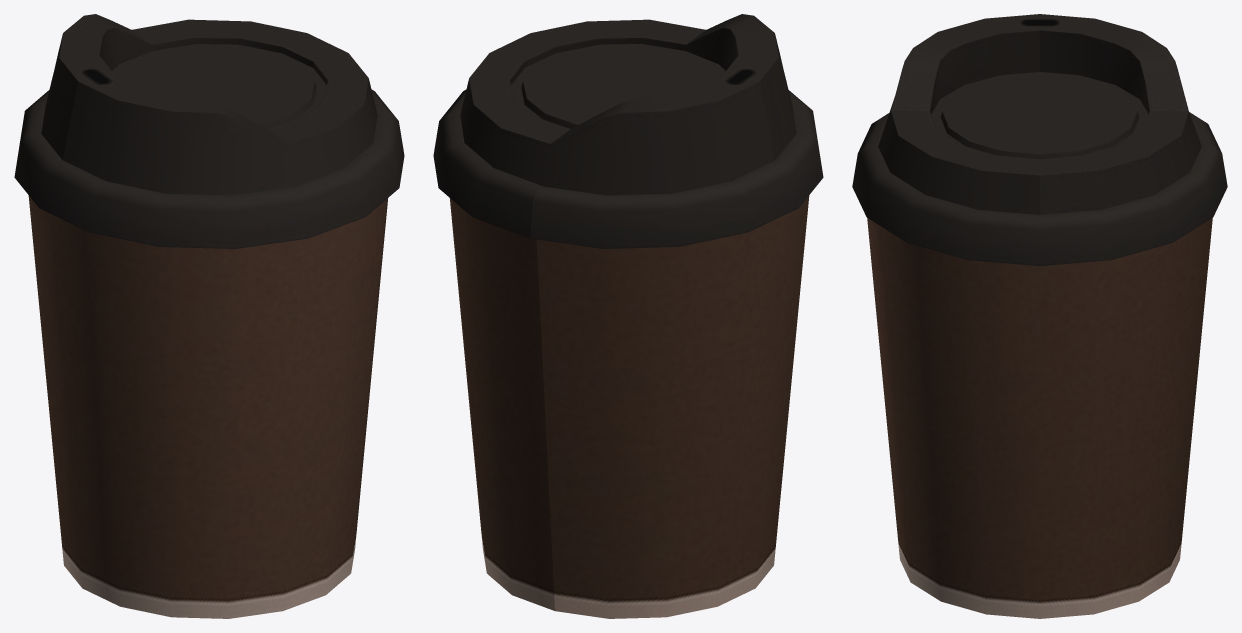
The model's file is CoffeeCup_1.fbx.
3 views of the same model, side by side, from view 1: azimuth 30°, elevation 25°; view 2: azimuth 150°, elevation 25°; view 3: azimuth 270°, elevation 25° (orthographic). The views are drawn at different scales.
Visible parts, largest first — view 1: CoffeeCup_1; view 2: CoffeeCup_1; view 3: CoffeeCup_1.
Part boxes in pixels (bbox=[...]): CoffeeCup_1: bbox=[14, 14, 404, 618]; CoffeeCup_1: bbox=[433, 14, 823, 618]; CoffeeCup_1: bbox=[852, 14, 1227, 618].
Bounding box in the file's own units: 37.75 × 53.77 × 37.75.
Materials: 1 (1 with a texture image).
